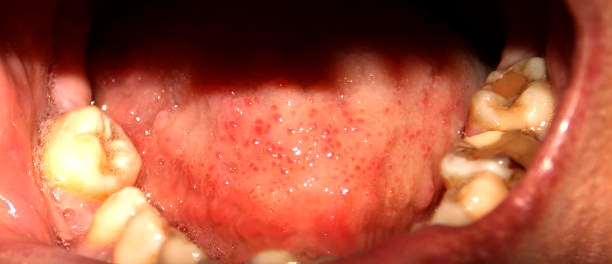Caries: (451, 134, 551, 188), (488, 62, 536, 105)
